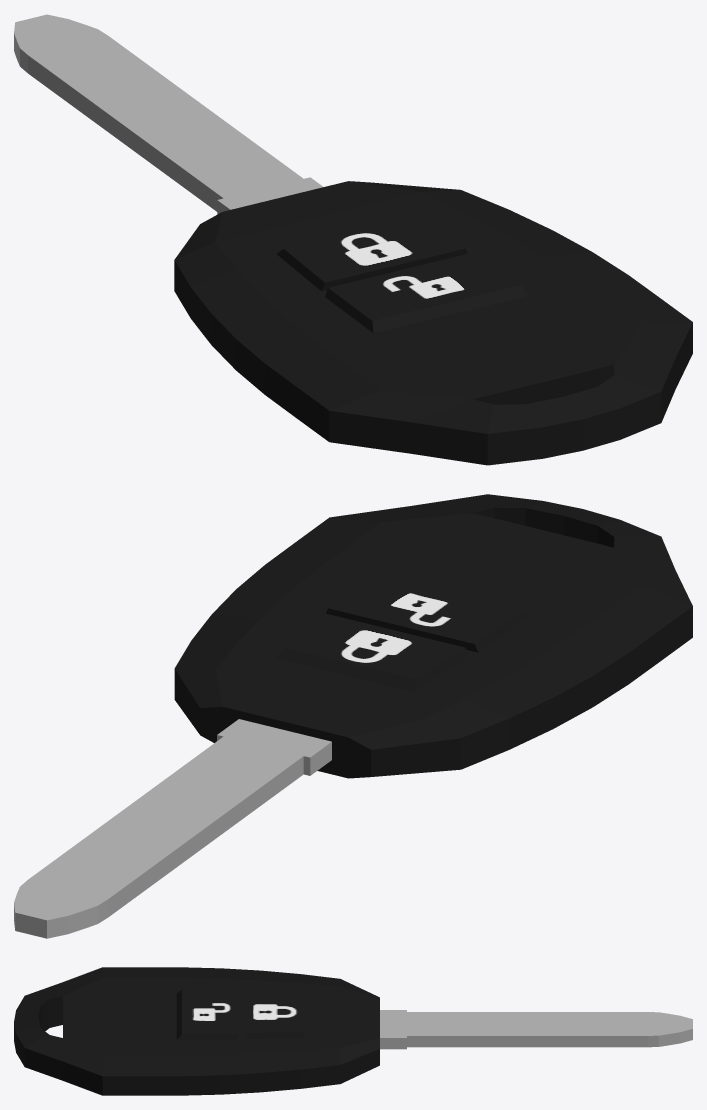
Rendered from CarKey.fbx.
The picture shows the model from 3 angles, top to bottom: view 1: azimuth 30°, elevation 25°; view 2: azimuth 150°, elevation 25°; view 3: azimuth 270°, elevation 25°; orthographic projection. The views are drawn at different scales.
Parts seen in each view (by area): view 1: Cube; view 2: Cube; view 3: Cube.
Boxes of the visible parts, bbox=[...] form: Cube: bbox=[14, 14, 692, 465]; Cube: bbox=[14, 494, 692, 938]; Cube: bbox=[14, 967, 692, 1095].
Size of the model in its own units: 163 by 23.69 by 428.
2 materials, 1 textured.
